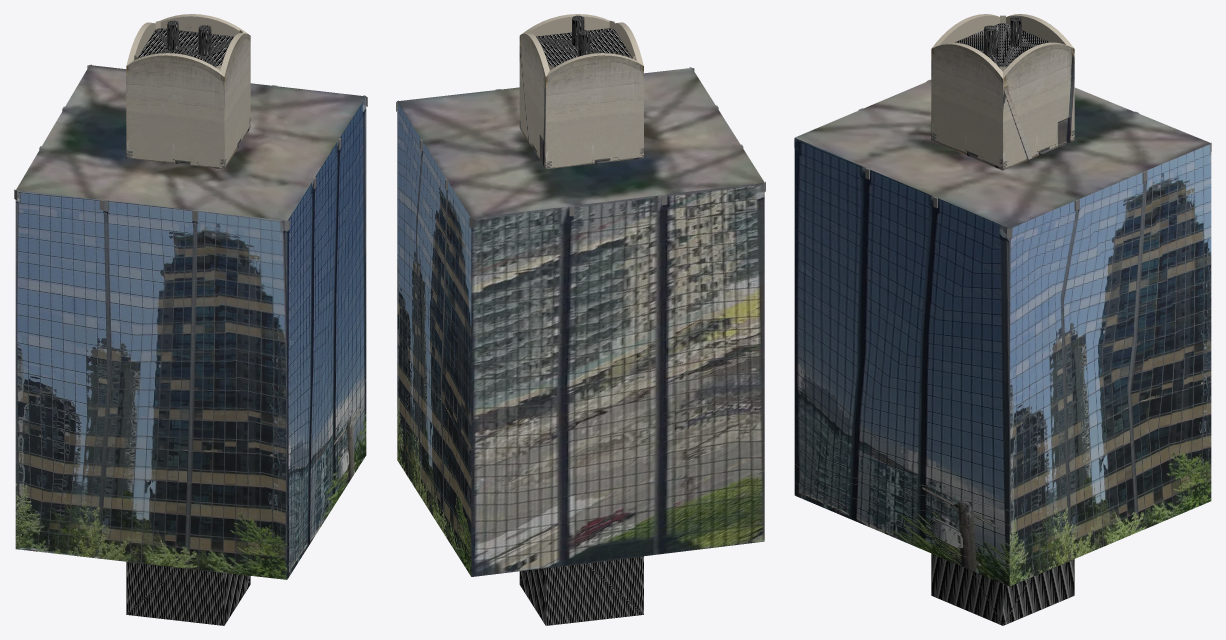
File: capstone2_indivqube-transformed.glb
3 views of the same model, side by side, from view 1: azimuth 30°, elevation 25°; view 2: azimuth 150°, elevation 25°; view 3: azimuth 270°, elevation 25° (orthographic).
Parts seen in each view (by area): view 1: _(Loose Entity); view 2: _(Loose Entity); view 3: _(Loose Entity).
Part boxes in pixels (x1,y1,x2,y2): _(Loose Entity): (14, 14, 367, 625); _(Loose Entity): (396, 14, 765, 625); _(Loose Entity): (794, 14, 1211, 625).
Size of the model in its own units: 47.33 by 72.29 by 47.74.
Materials: 9 (7 with a texture image).
